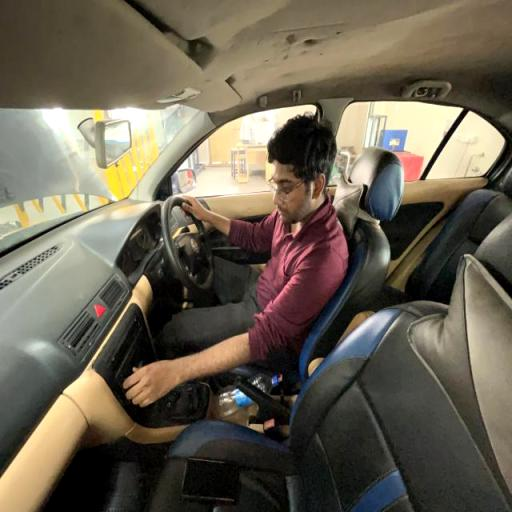operatingradio: (106, 112, 344, 411)
